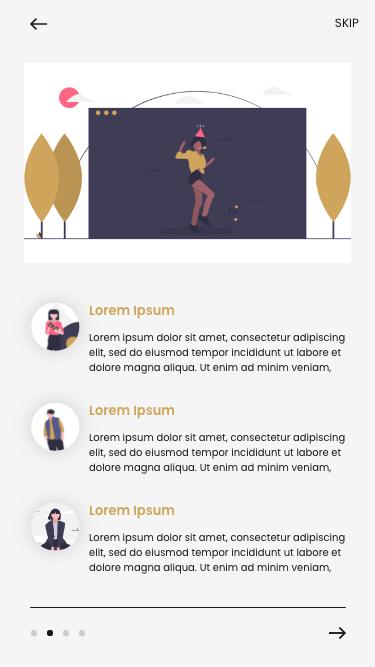Icon: (329, 626, 347, 640), (30, 19, 48, 32)
Image: (24, 64, 351, 264), (31, 303, 81, 352), (31, 403, 81, 452), (32, 503, 81, 551)
PageIndicator: (31, 629, 87, 637)
Text: (88, 333, 346, 376), (89, 432, 346, 475), (89, 532, 346, 575), (90, 405, 176, 420), (90, 305, 175, 320), (90, 505, 175, 520), (334, 19, 359, 29)
